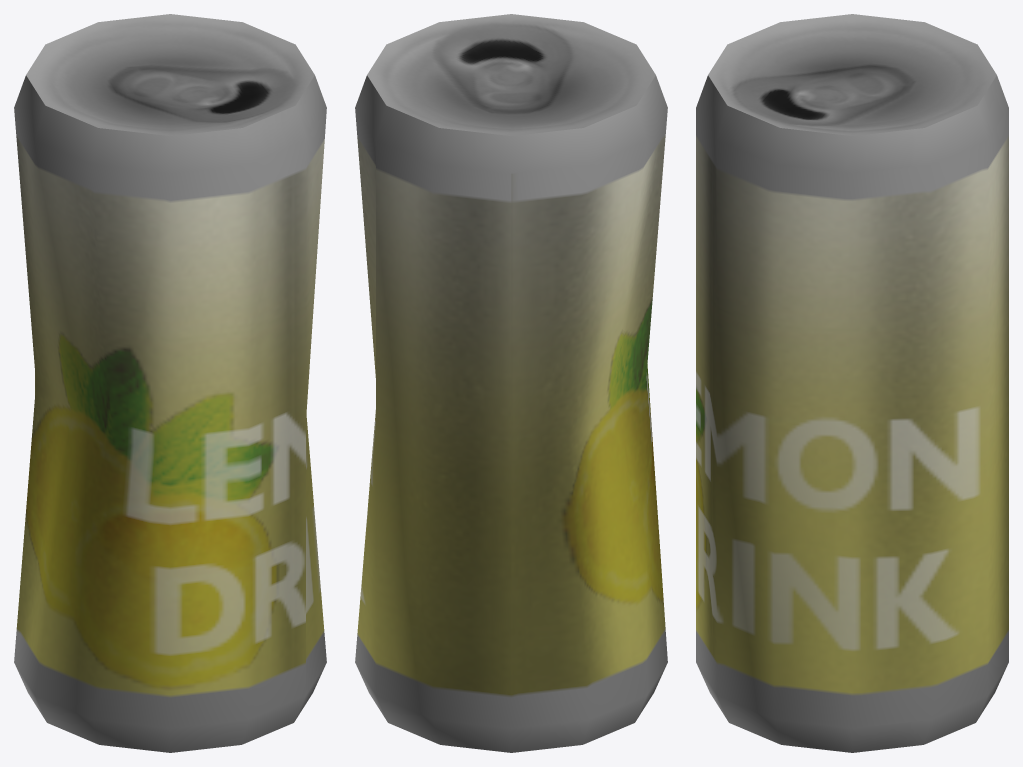
The model's file is Can_2.FBX.
3 renders of one model, left to right at view 1: azimuth 30°, elevation 25°; view 2: azimuth 150°, elevation 25°; view 3: azimuth 270°, elevation 25°, orthographic.
Parts seen in each view (by area): view 1: Can_3; view 2: Can_3; view 3: Can_3.
Boxes of the visible parts, <box> form: Can_3: <box>14,14,326,752</box>; Can_3: <box>355,14,667,752</box>; Can_3: <box>696,14,1008,752</box>.
Size of the model in its own units: 194 by 423 by 194.
Materials: 1 (1 with a texture image).
